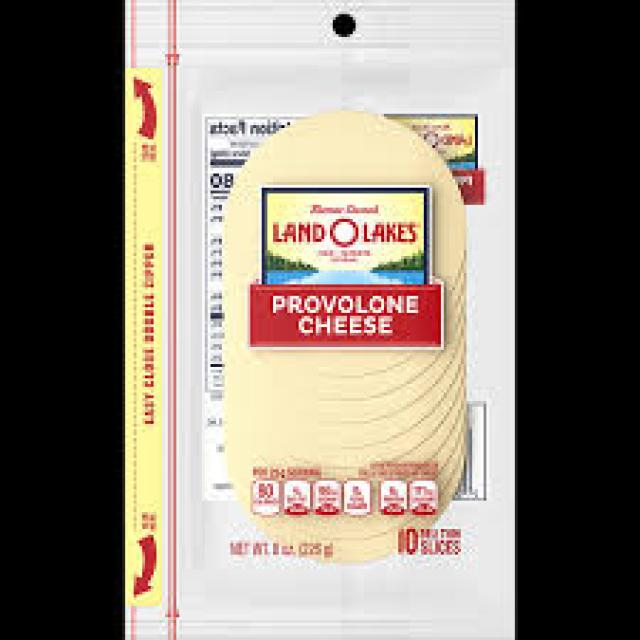cheese: (224, 109, 453, 565)
